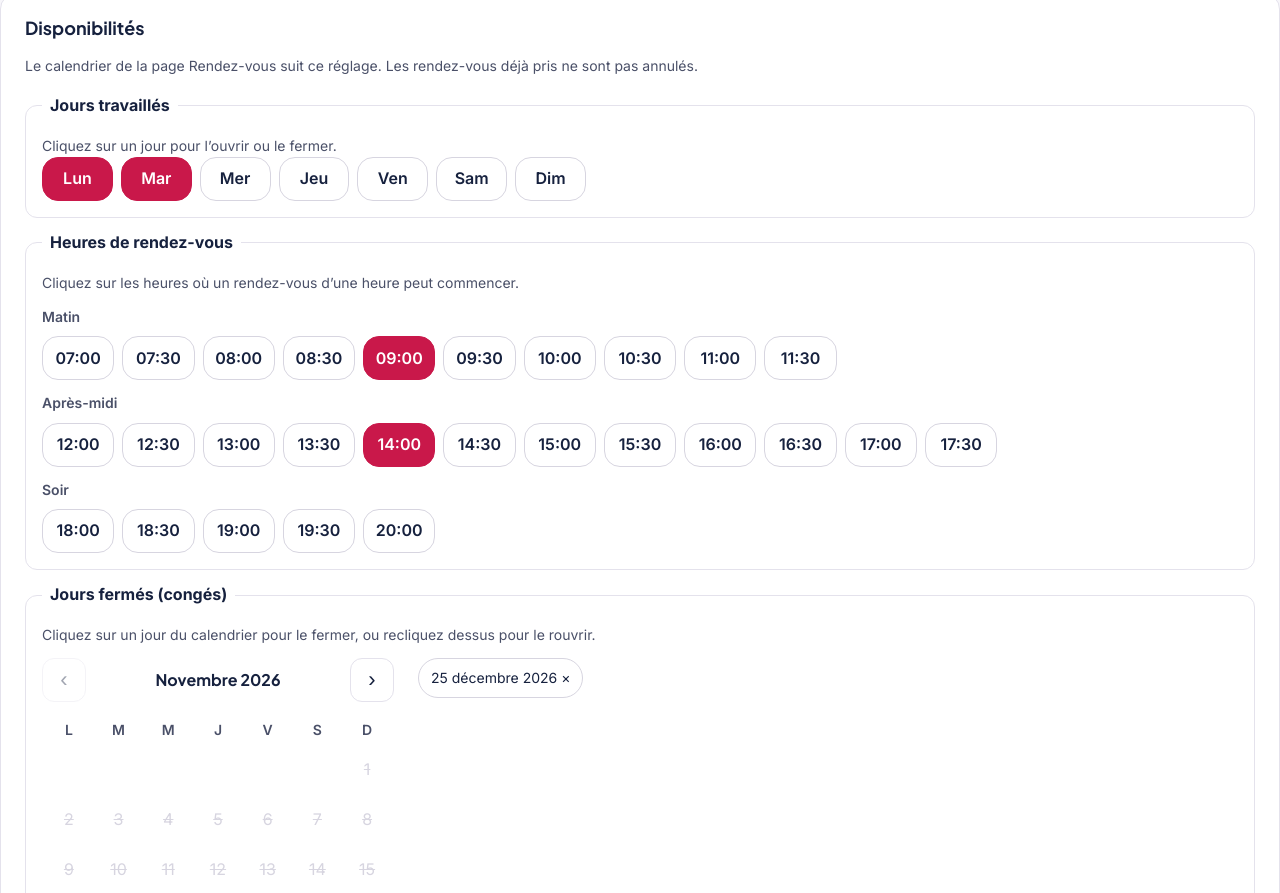
Back-office : disponibilités › rouvre un jour fermé depuis la liste
Click the button with aria-label "Rouvrir le 25 décembre 2026" at (501, 678), box left=418, top=658, right=584, bottom=698
(page scrolled)
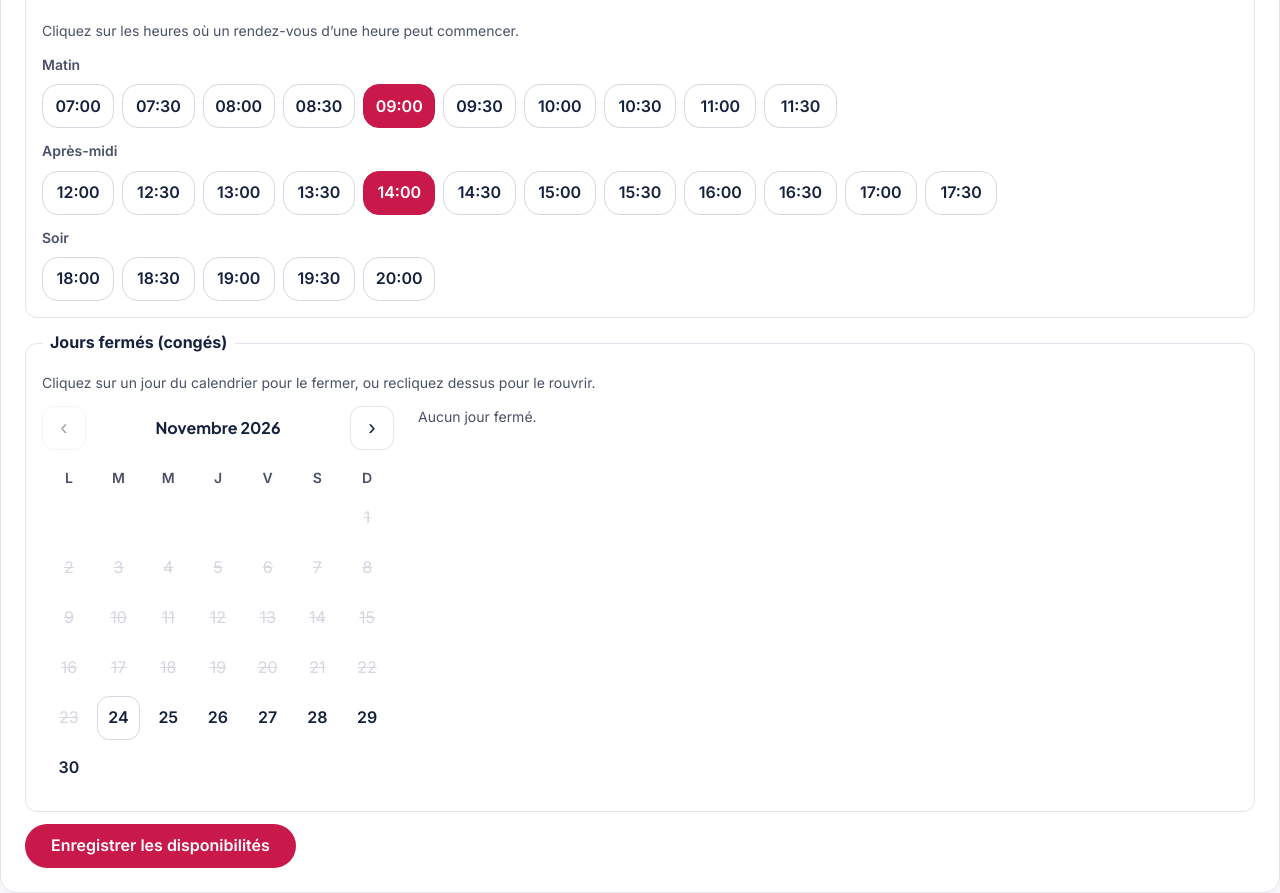
Click the button "Enregistrer les disponibilités" at (160, 846), box left=25, top=824, right=296, bottom=868
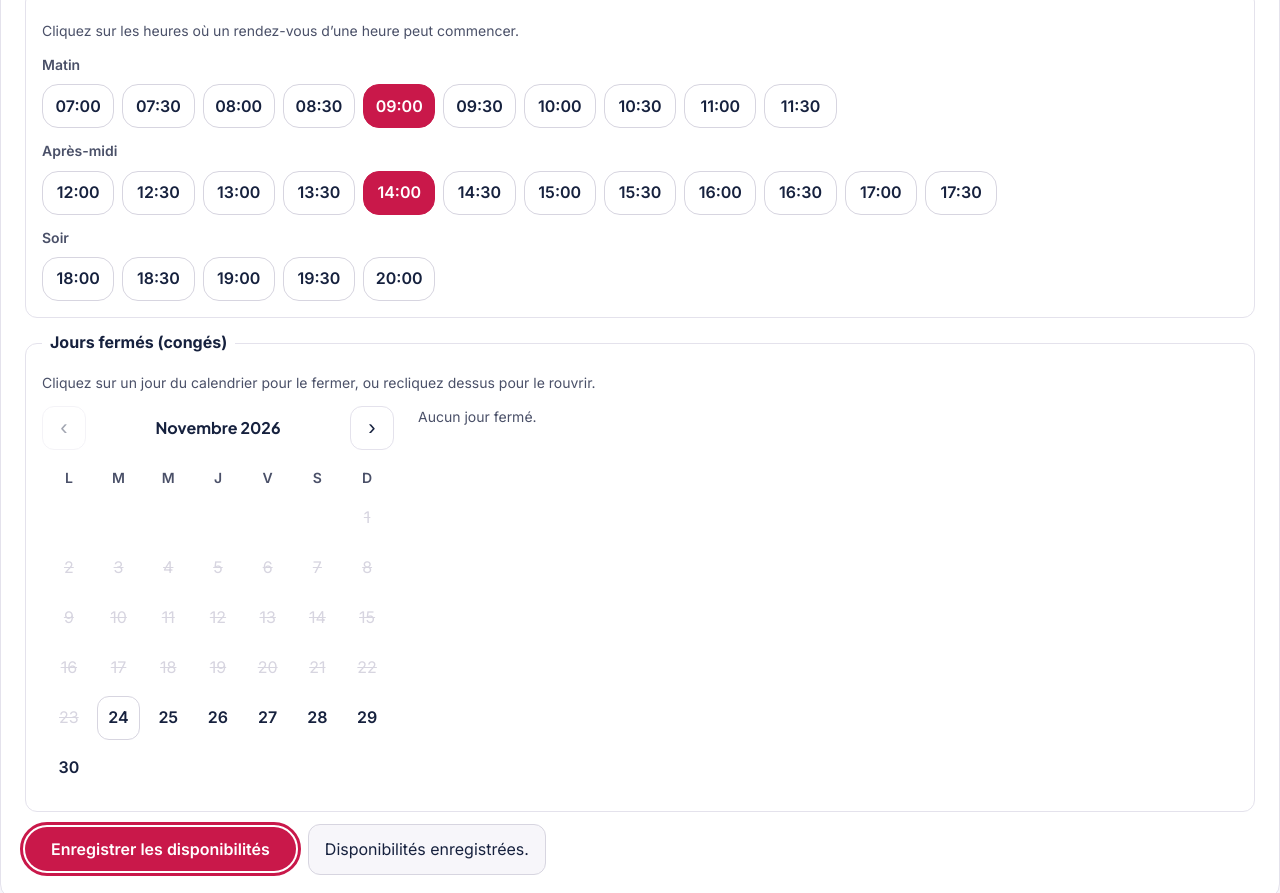
Result: the message "Disponibilités enregistrées." is shown at left=308, top=824, right=546, bottom=875
